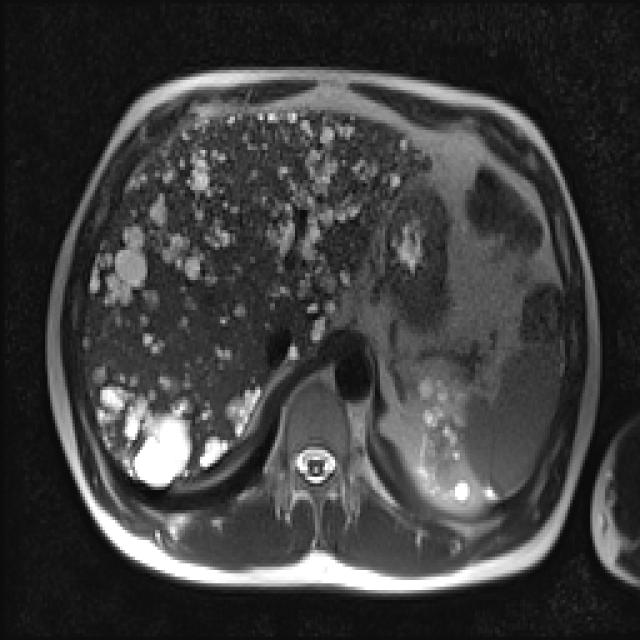sol: (416, 369, 471, 507)
